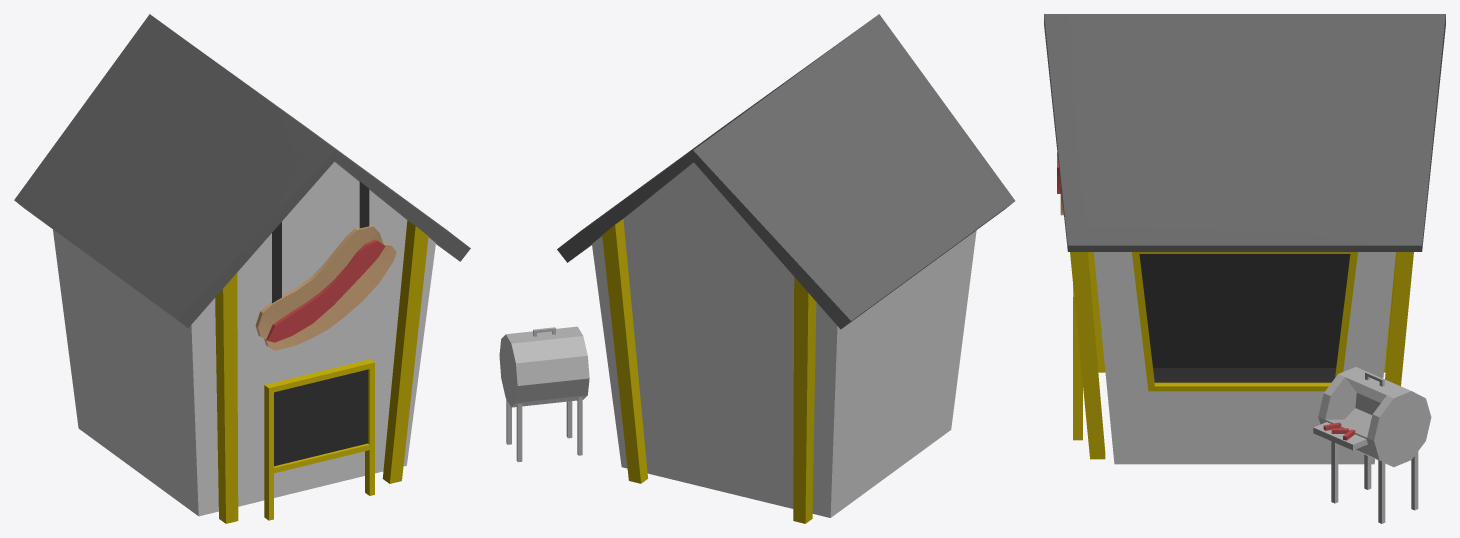
The model's file is hotdogstand.fbx.
The picture shows the model from 3 angles, left to right: view 1: azimuth 30°, elevation 25°; view 2: azimuth 150°, elevation 25°; view 3: azimuth 270°, elevation 25°; orthographic projection. The views are drawn at different scales.
Visible parts, largest first — view 1: pCube36; view 2: pCube36; view 3: pCube36.
Boxes of the visible parts, x1,y1,x2,y2 form: pCube36: (14,14,470,523); pCube36: (499,14,1015,523); pCube36: (1044,14,1445,523).
Size of the model in its own units: 74.33 by 69.55 by 63.49.
